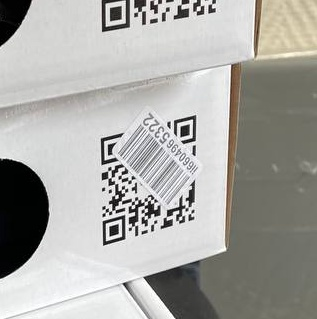2d: (100, 114, 197, 248)
